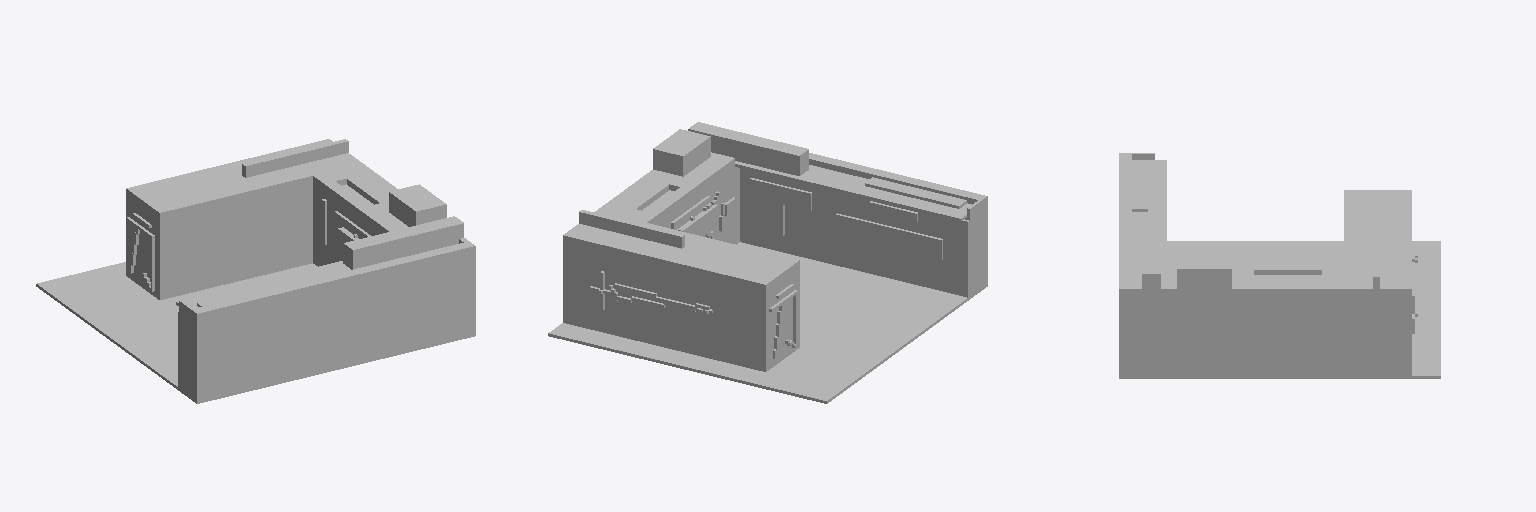
The model's file is 武器店.obj.
3 views of the same model, side by side, from view 1: azimuth 30°, elevation 25°; view 2: azimuth 150°, elevation 25°; view 3: azimuth 270°, elevation 25° (orthographic).
Bounding box in the file's own units: 100 × 38 × 100.